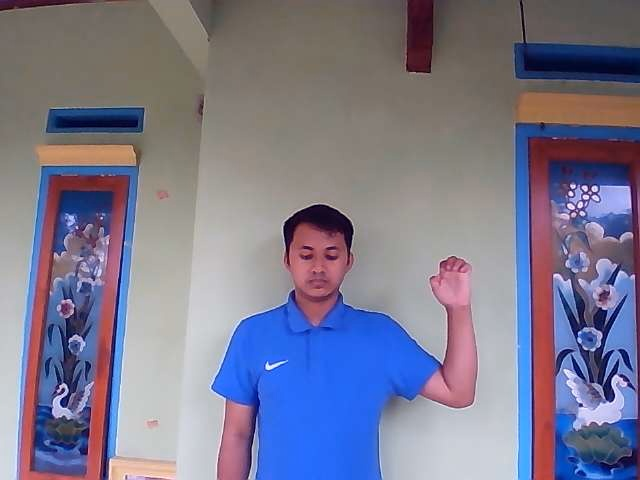E: (428, 254, 475, 307)
